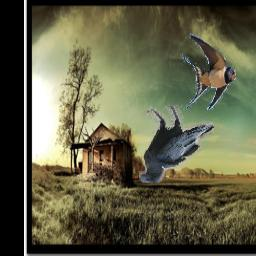Crow: (138, 105, 214, 183)
Swallow: (180, 35, 236, 111)
